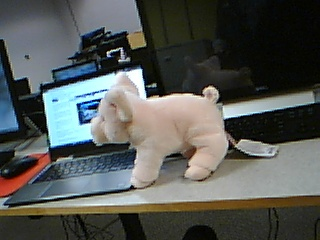piggy: (87, 68, 235, 191)
